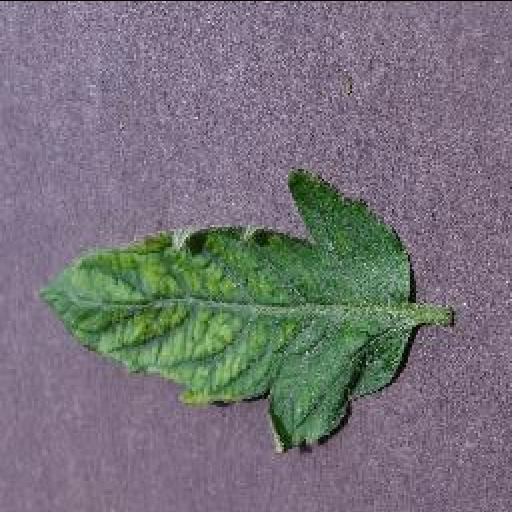disease_tomato: (32, 170, 416, 454)
